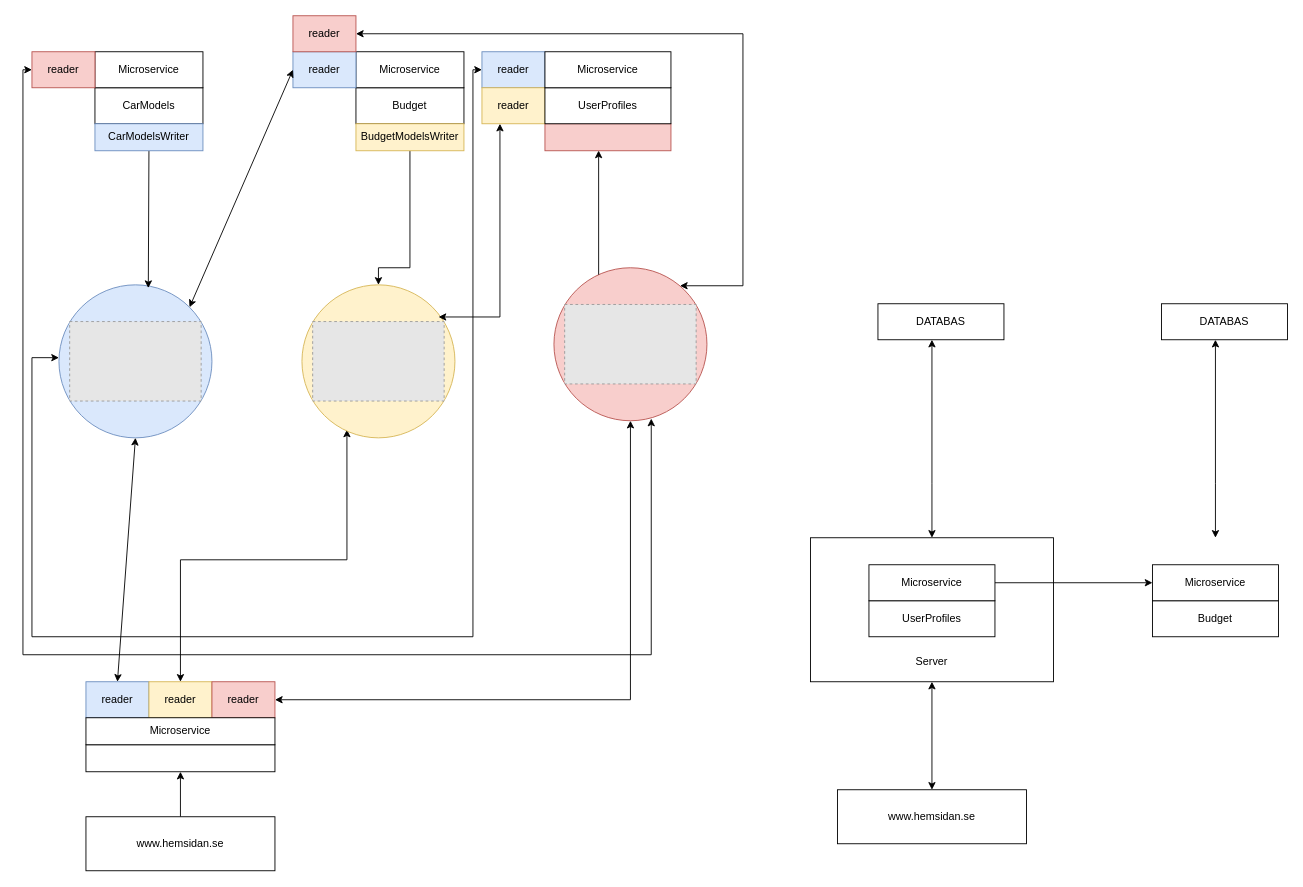
Some shapes in this 1303 by 887 pixel diagram are drawn without their labels. Grey dashed boxes stand in for pictures. The shapes that lost their labels are listed below. From the top down, each one's centre as x and y in pixels, then its label:
At (x=607, y=137): "UserProfilesModelsWriter".
At (x=180, y=758): "Headless/frontend".
